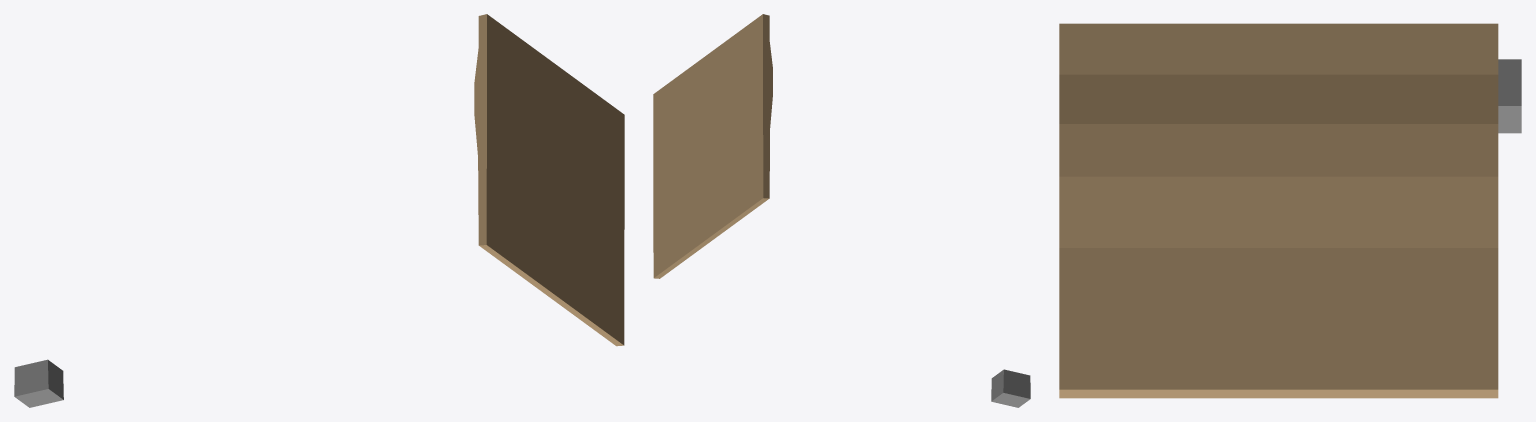
The picture shows the model from 3 angles, left to right: view 1: azimuth 30°, elevation 25°; view 2: azimuth 150°, elevation 25°; view 3: azimuth 270°, elevation 25°; orthographic projection. The views are drawn at different scales.
Visible parts, largest first — view 1: 0_2_1_0_3_3_3_3; view 2: 0_2_1_0_3_3_3_3; view 3: 0_2_1_0_3_3_3_3.
Boxes of the visible parts, bbox=[...] form: 0_2_1_0_3_3_3_3: bbox=[14, 14, 624, 407]; 0_2_1_0_3_3_3_3: bbox=[653, 14, 1030, 407]; 0_2_1_0_3_3_3_3: bbox=[1059, 23, 1521, 398].
Size of the model in its own units: 52.71 by 29.77 by 28.43.
